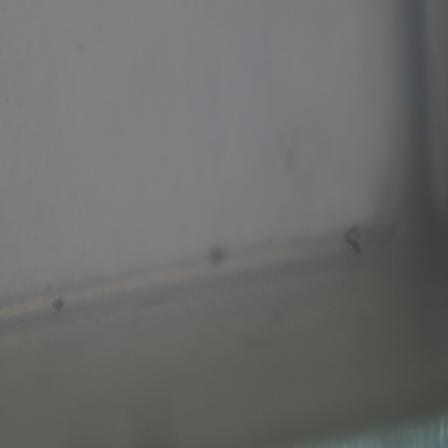Jentik-Nyamuk: (339, 218, 369, 256)
